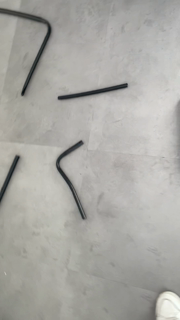L pipe: (53, 138, 92, 222)
i pipe: (56, 81, 131, 104)
